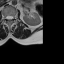CCS_normal: (8, 13, 10, 23)
LFS_normal: (13, 14, 15, 21)
LLS_normal: (10, 13, 13, 22)
RFS_normal: (3, 14, 6, 20)
RLS_normal: (6, 13, 8, 22)
